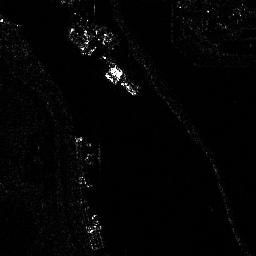ship: (102, 55, 138, 96)
